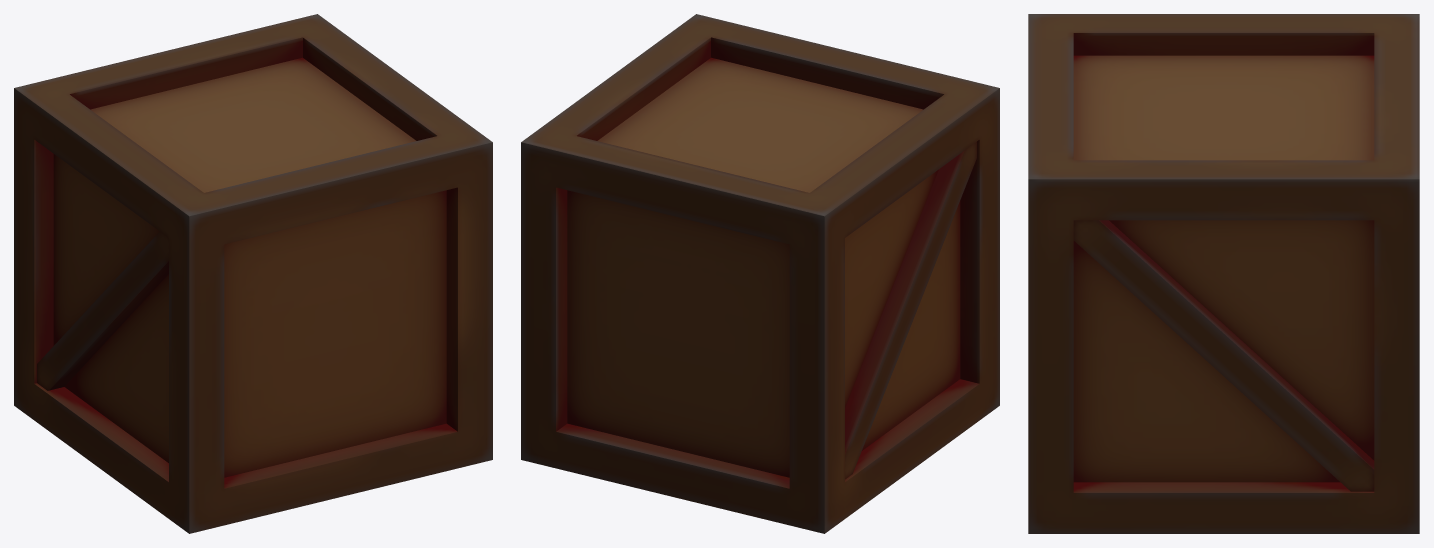
Rendered from kutu1.fbx.
The picture shows the model from 3 angles, left to right: view 1: azimuth 30°, elevation 25°; view 2: azimuth 150°, elevation 25°; view 3: azimuth 270°, elevation 25°; orthographic projection. The views are drawn at different scales.
Visible parts, largest first — view 1: Cube.036; view 2: Cube.036; view 3: Cube.036.
Boxes of the visible parts, bbox=[...] form: Cube.036: bbox=[14, 14, 492, 533]; Cube.036: bbox=[521, 14, 999, 533]; Cube.036: bbox=[1028, 14, 1419, 533].
Bounding box in the file's own units: 200 × 200 × 200.
